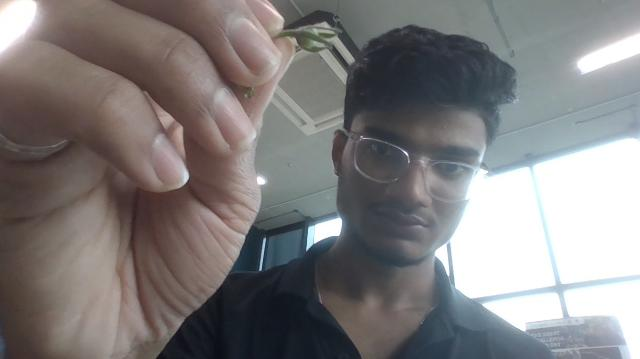Fruit Bud: (281, 28, 338, 52)
